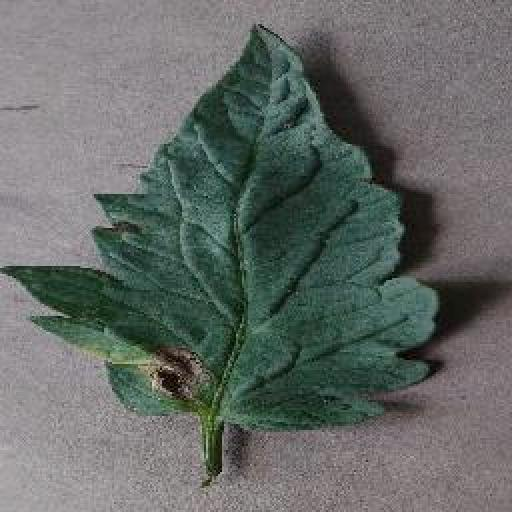disease_tomato: (0, 16, 444, 436)
